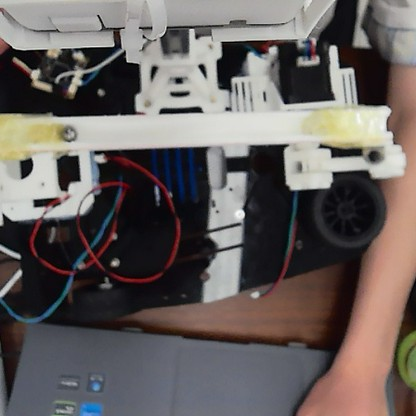ironball: (56, 123, 77, 142)
